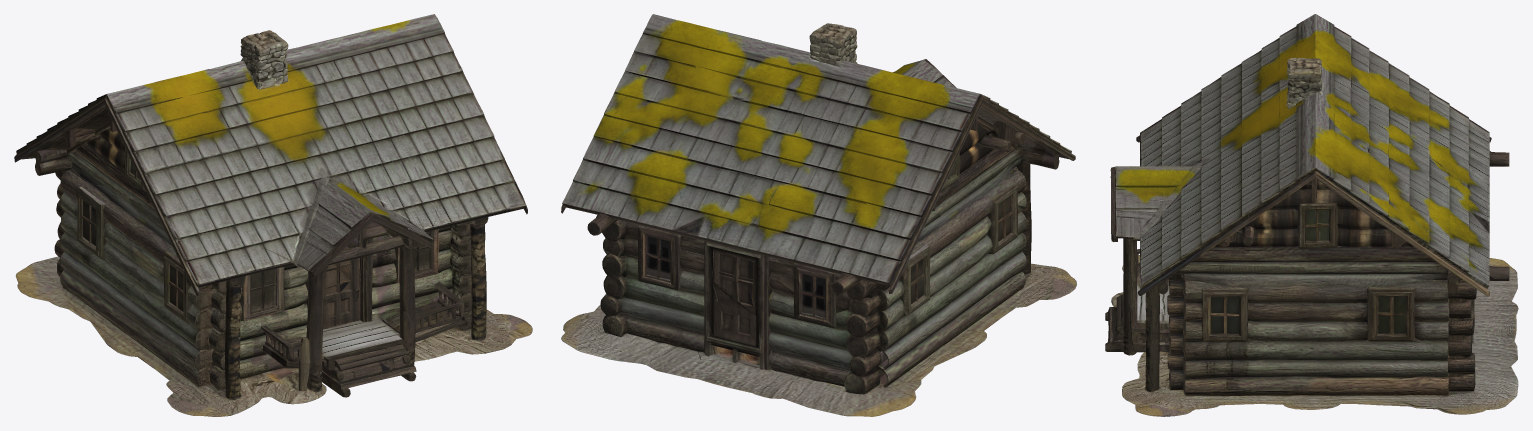
The model's file is forest-cabin.glb.
3 views of the same model, side by side, from view 1: azimuth 30°, elevation 25°; view 2: azimuth 150°, elevation 25°; view 3: azimuth 270°, elevation 25° (orthographic). The views are drawn at different scales.
Size of the model in its own units: 1.8 by 1.35 by 1.9.
1 material, 1 textured.
